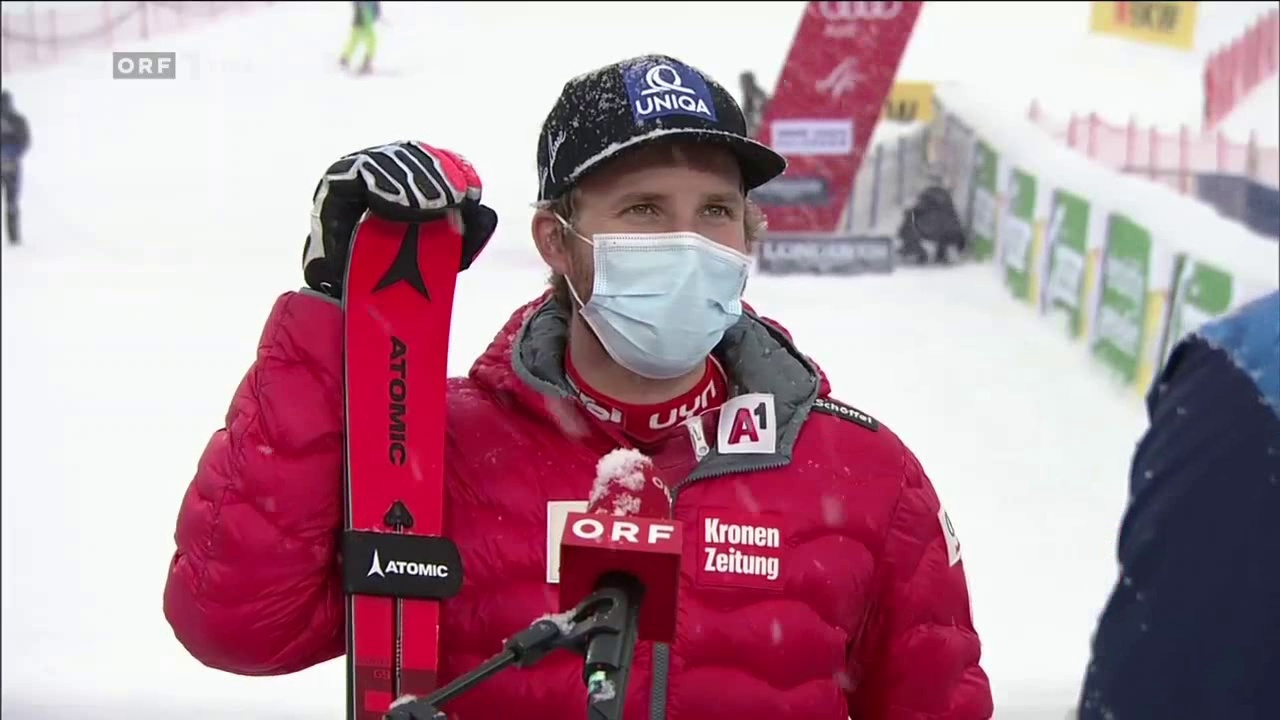a1: (721, 400, 778, 452)
kronenzeitung: (701, 522, 783, 580)
uniqa: (629, 63, 714, 126)
